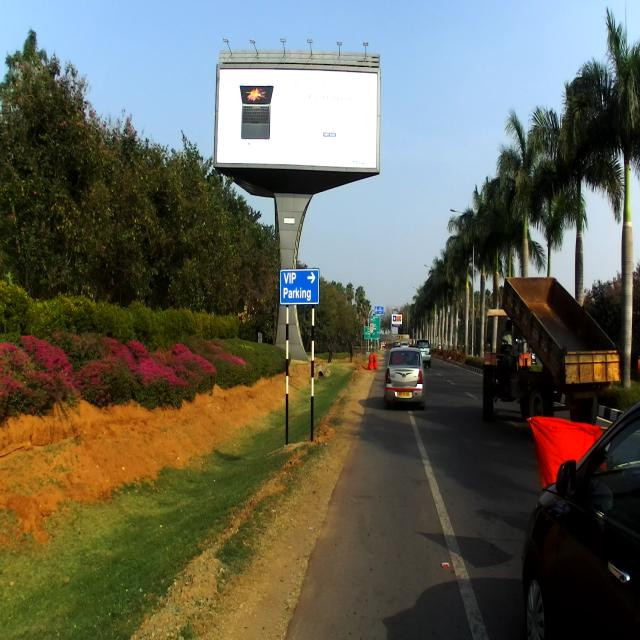barrier ahead at: (272, 264, 324, 466)
car ahead at: (380, 336, 430, 414)
